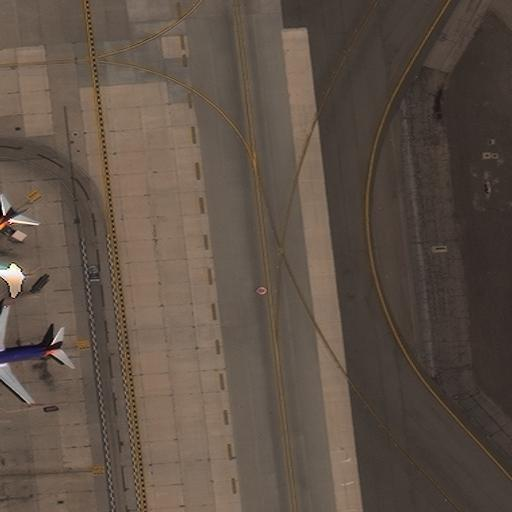Medium Civil Transport: (0, 307, 63, 403), (0, 207, 31, 276)
